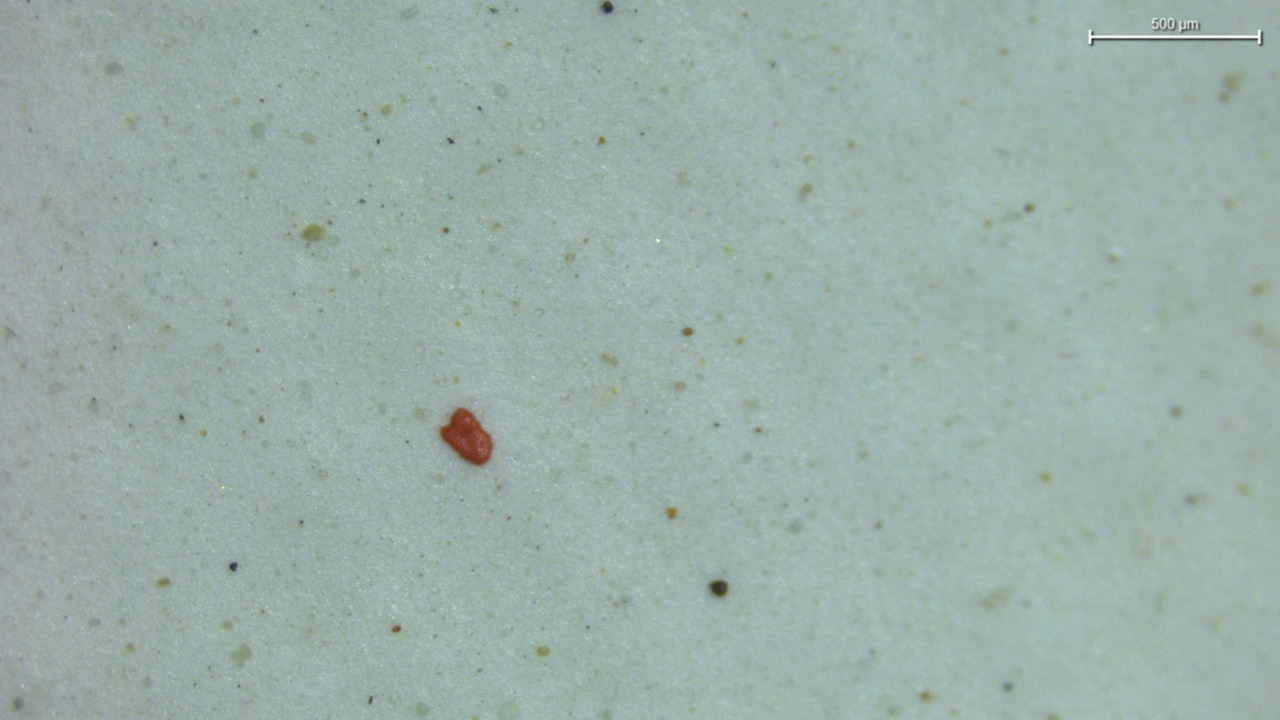microplastic_fragment: (440, 408, 493, 464)
